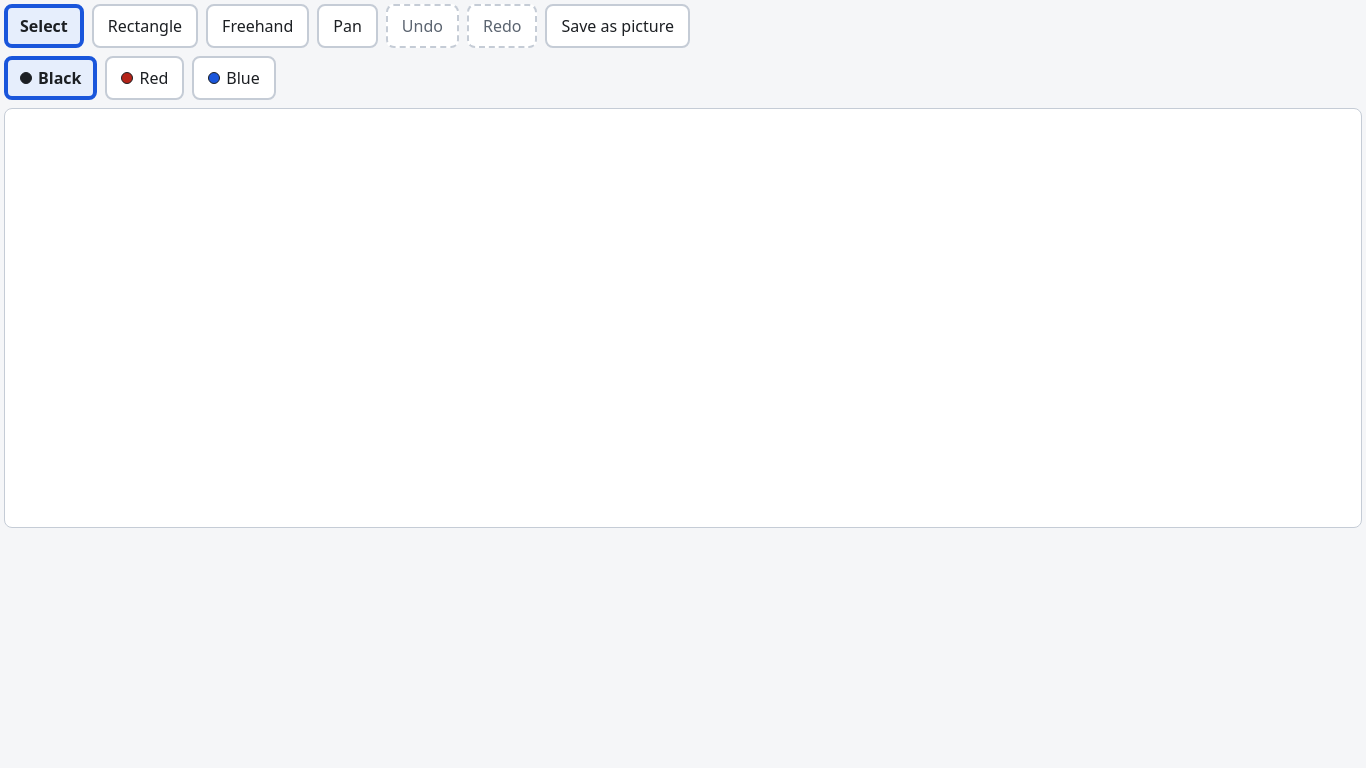
it: toolbar › marks Undo and Redo as disabled when their stack is empty, and keeps the focus on them
Click the button "Rectangle": point(145, 26) [92, 4, 198, 48]
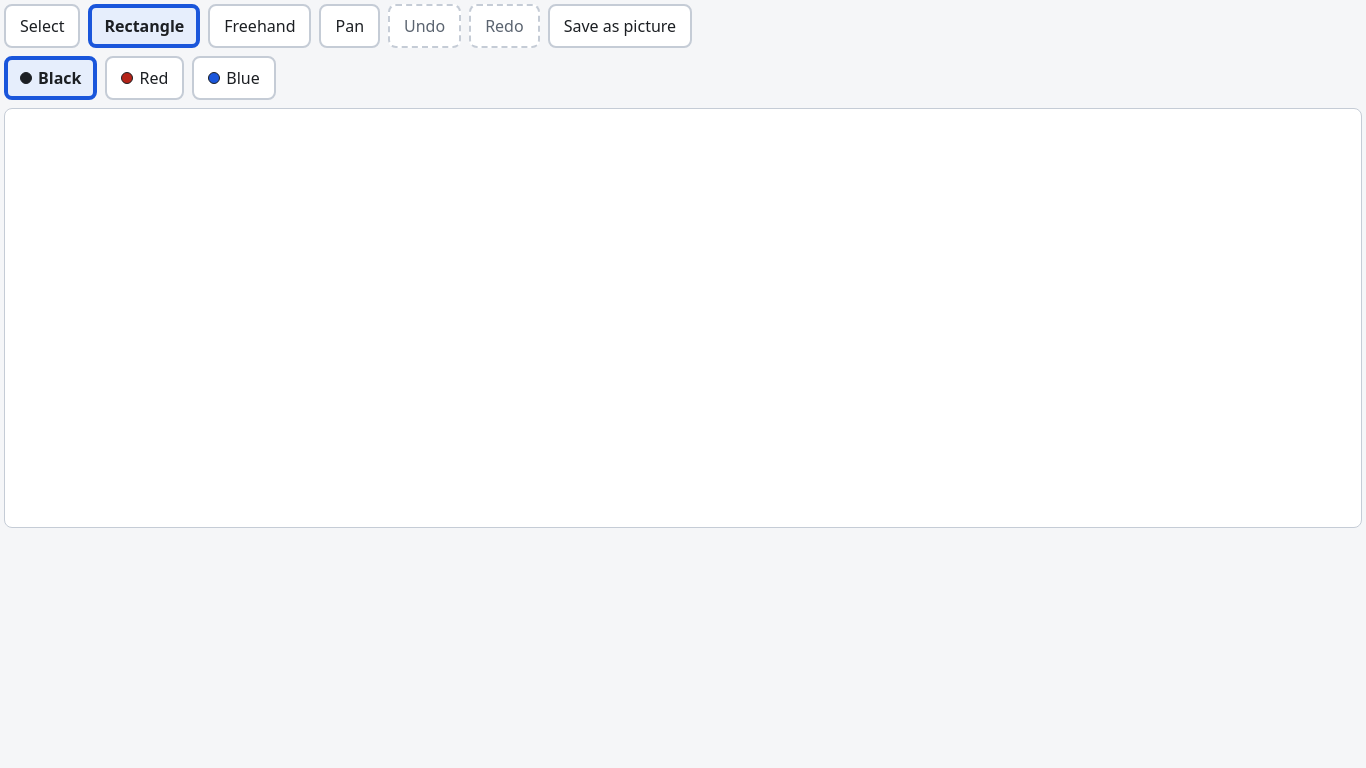
Press the mouse on the drawing named "Whiteboard": point(683, 318) [4, 108, 1362, 528]
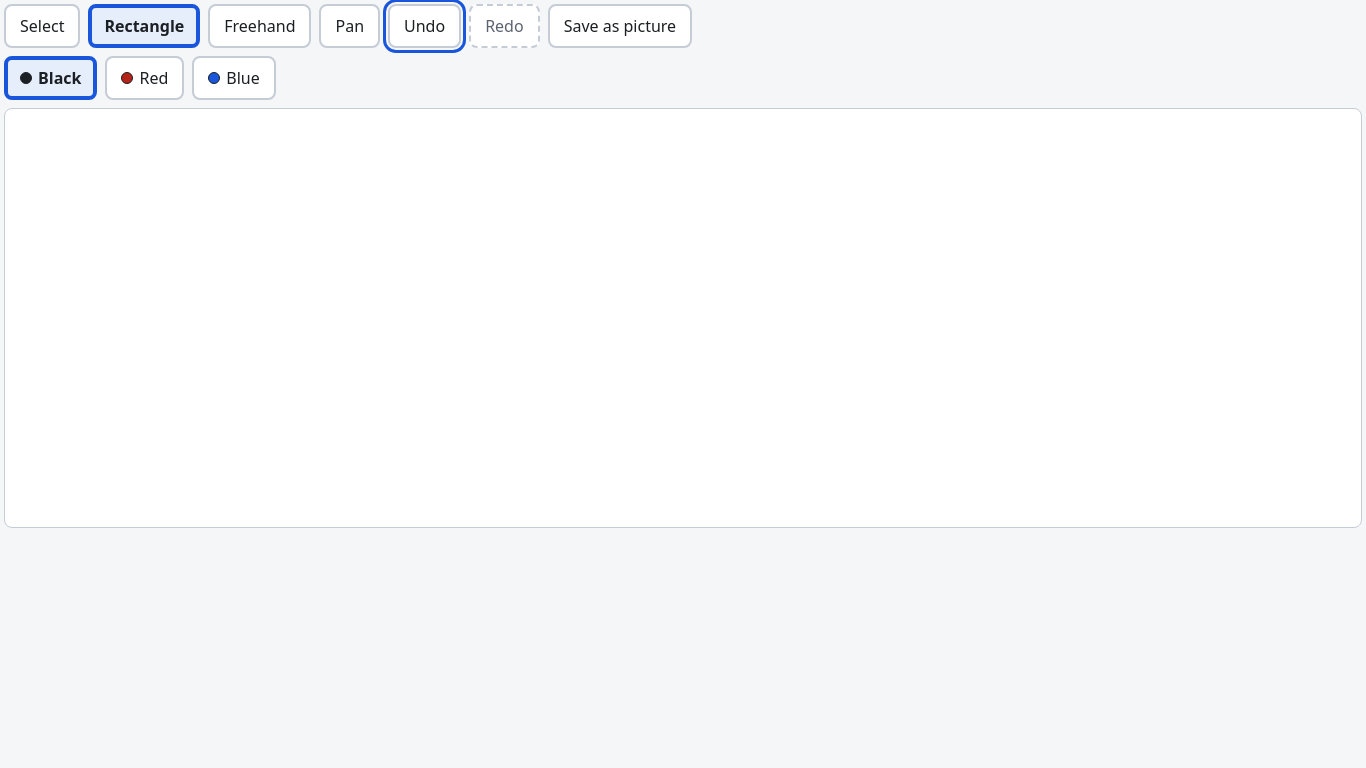
Click the button "Undo": point(425, 26) [388, 4, 461, 48]
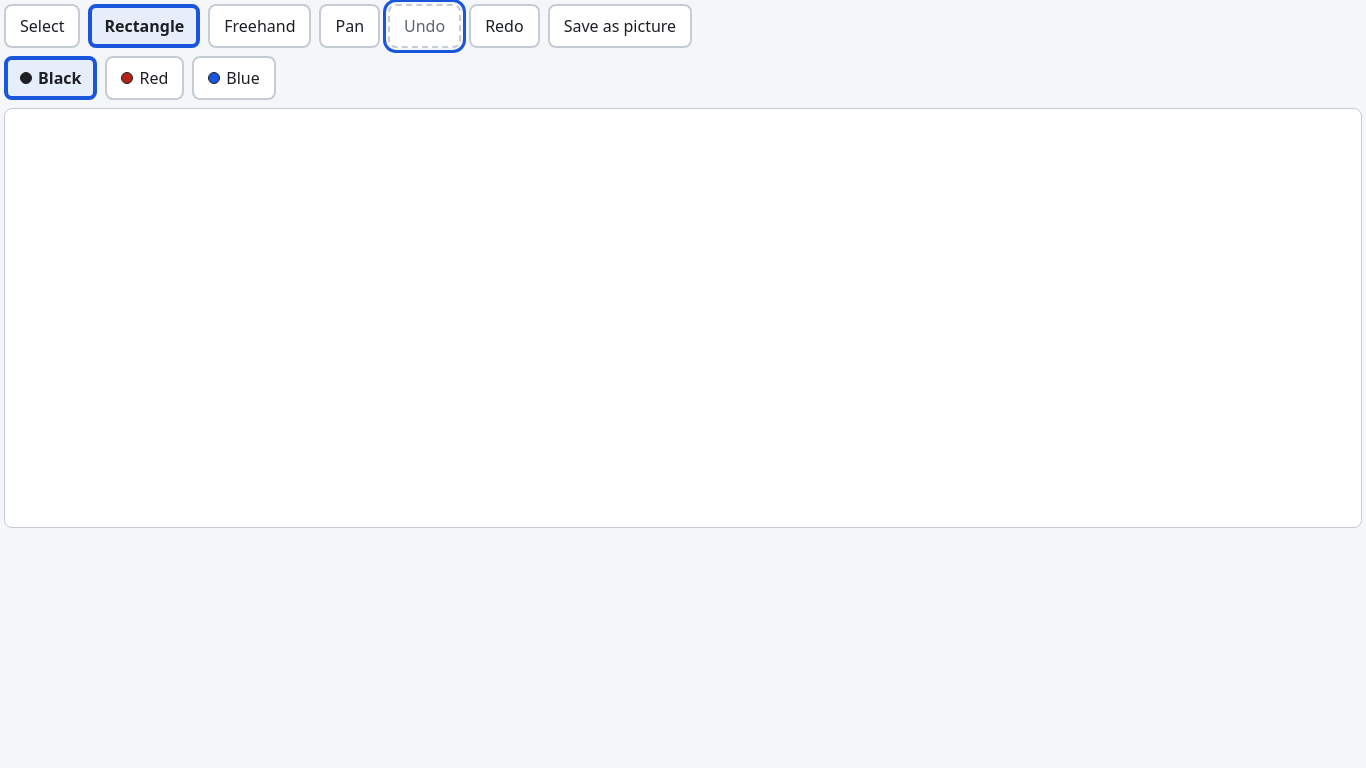
Result: the button "Undo" is disabled at [388, 4, 461, 48]
Result: the button "Redo" is enabled at [469, 4, 540, 48]
